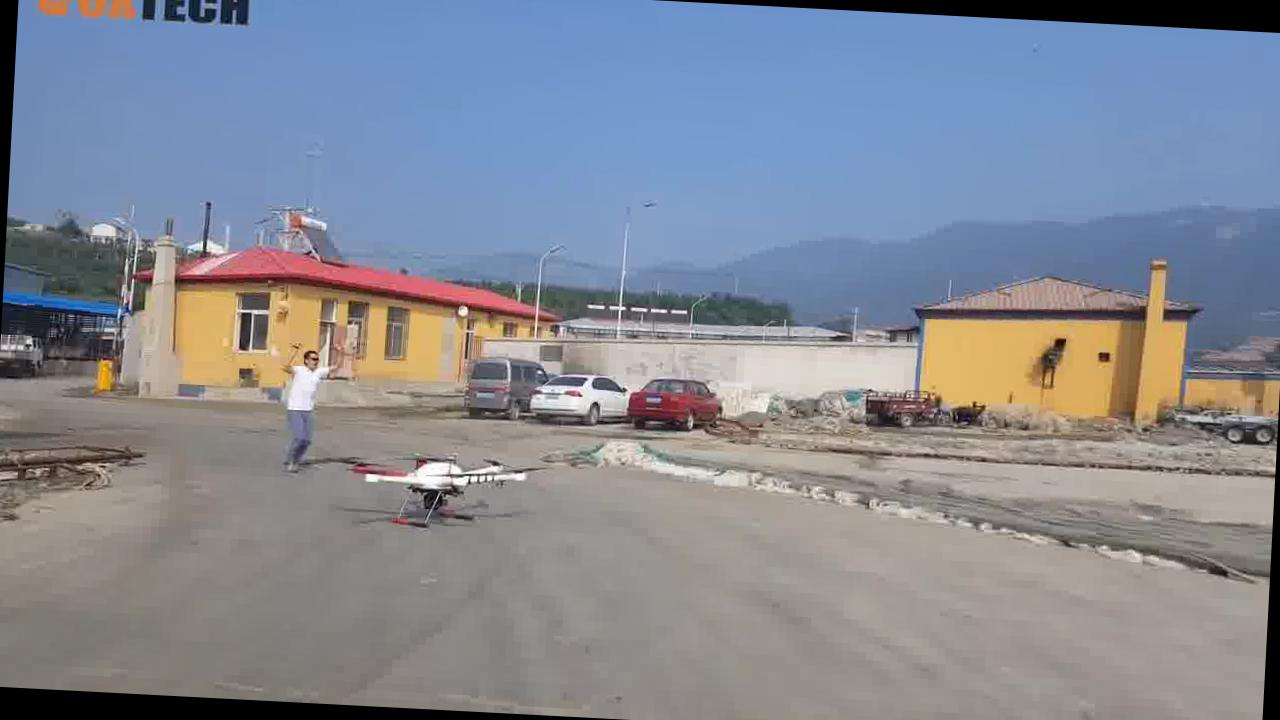drone: (340, 446, 530, 534)
